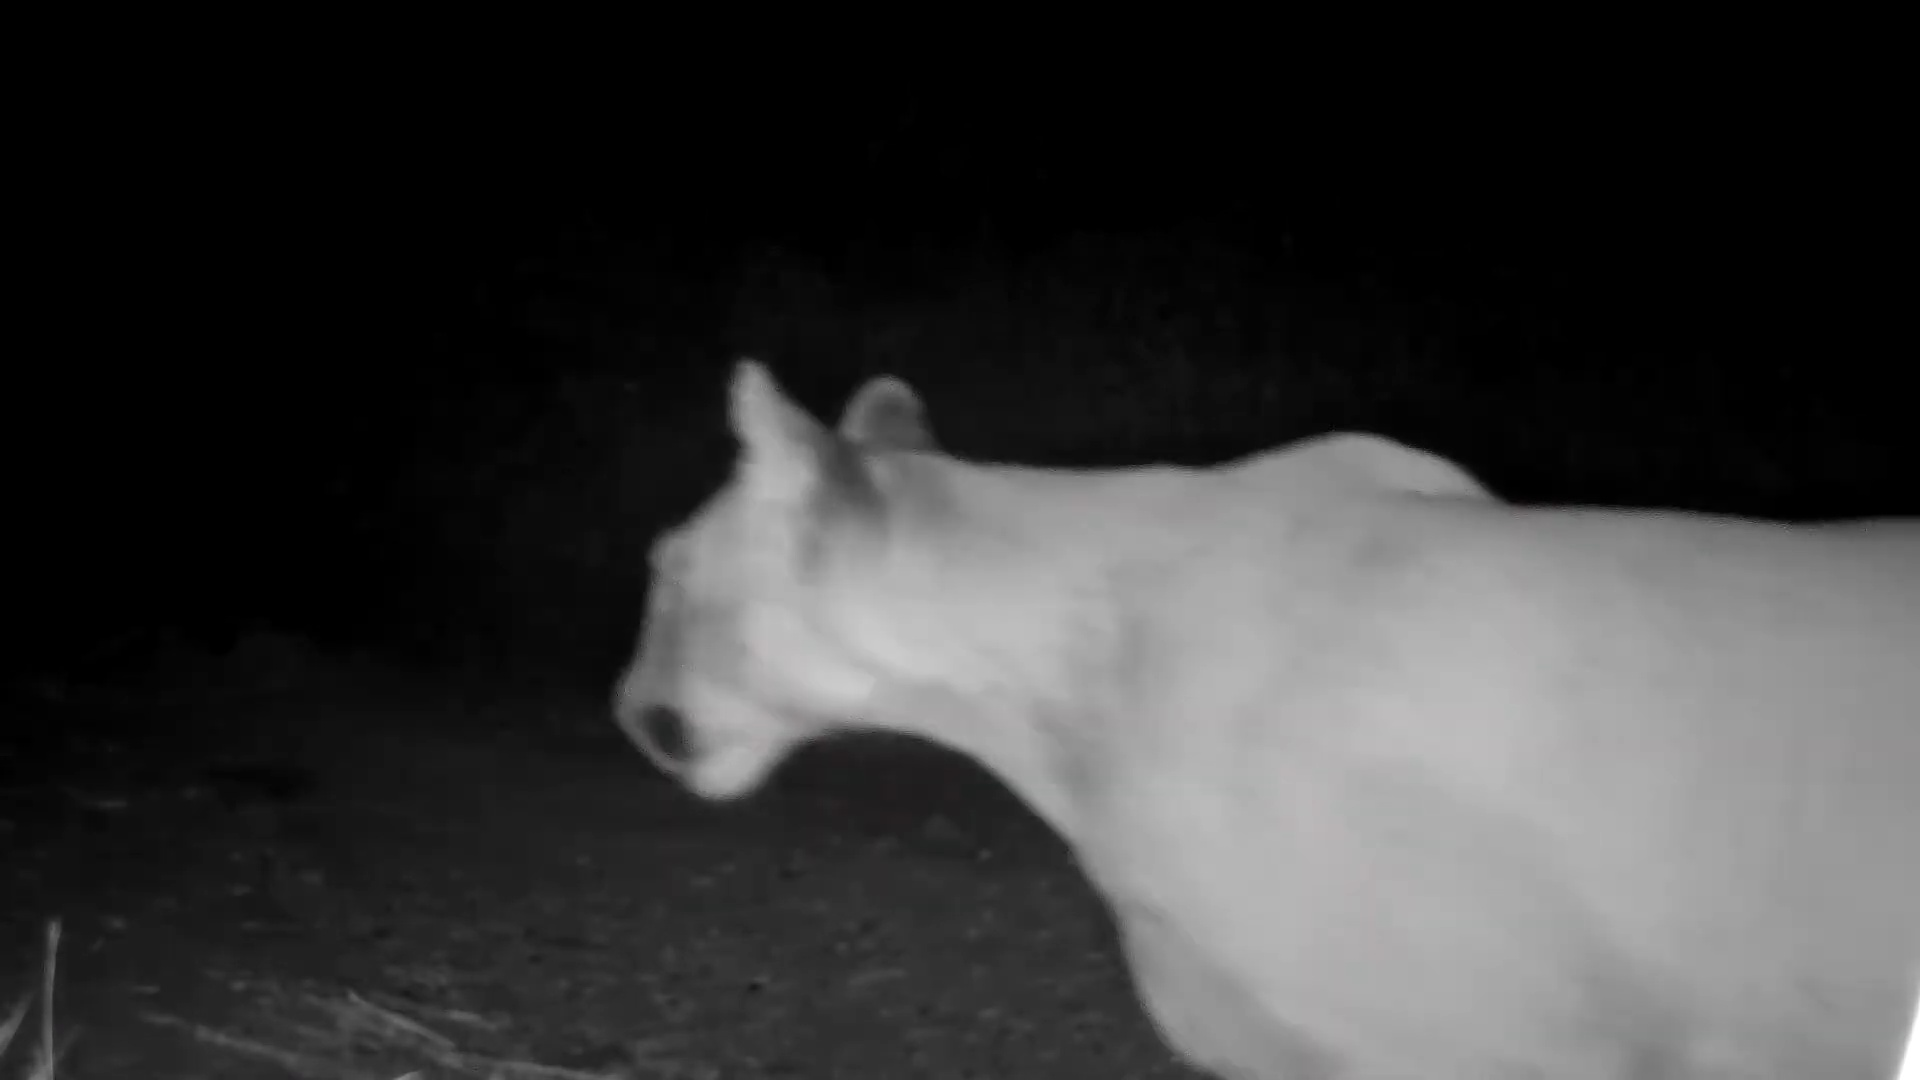Lion: (608, 349, 1920, 1080)
